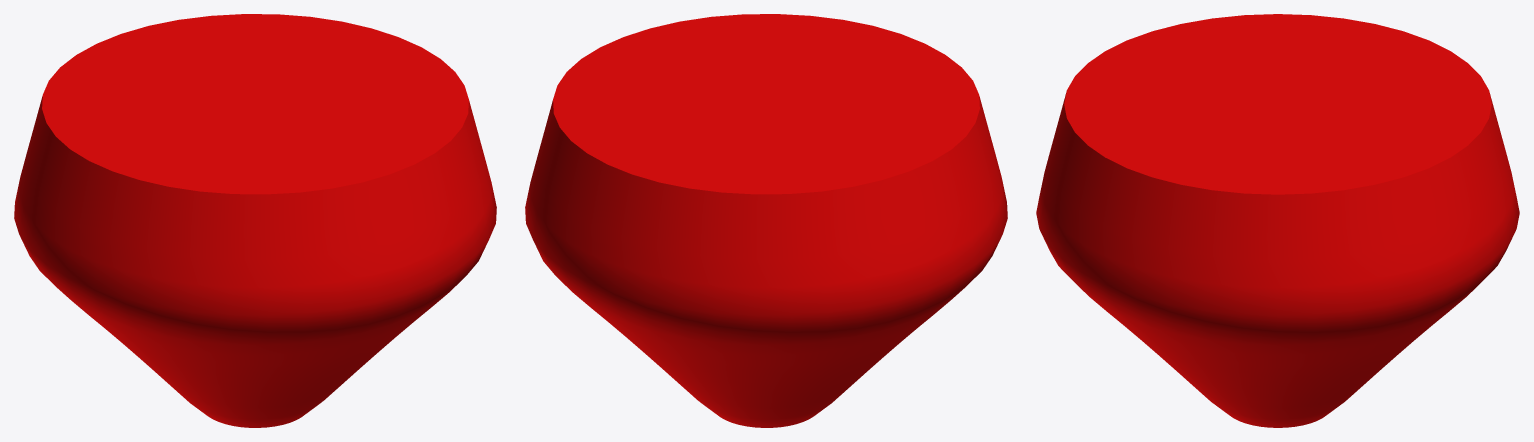
File: Liquid.fbx
3 views of the same model, side by side, from view 1: azimuth 30°, elevation 25°; view 2: azimuth 150°, elevation 25°; view 3: azimuth 270°, elevation 25° (orthographic).
Visible parts, largest first — view 1: Liquid1; view 2: Liquid1; view 3: Liquid1.
Part boxes in pixels (x1,y1,x2,y2): Liquid1: (14, 14, 496, 427); Liquid1: (525, 14, 1007, 427); Liquid1: (1036, 14, 1519, 427).
Size of the model in its own units: 2.33 by 1.65 by 2.33.
